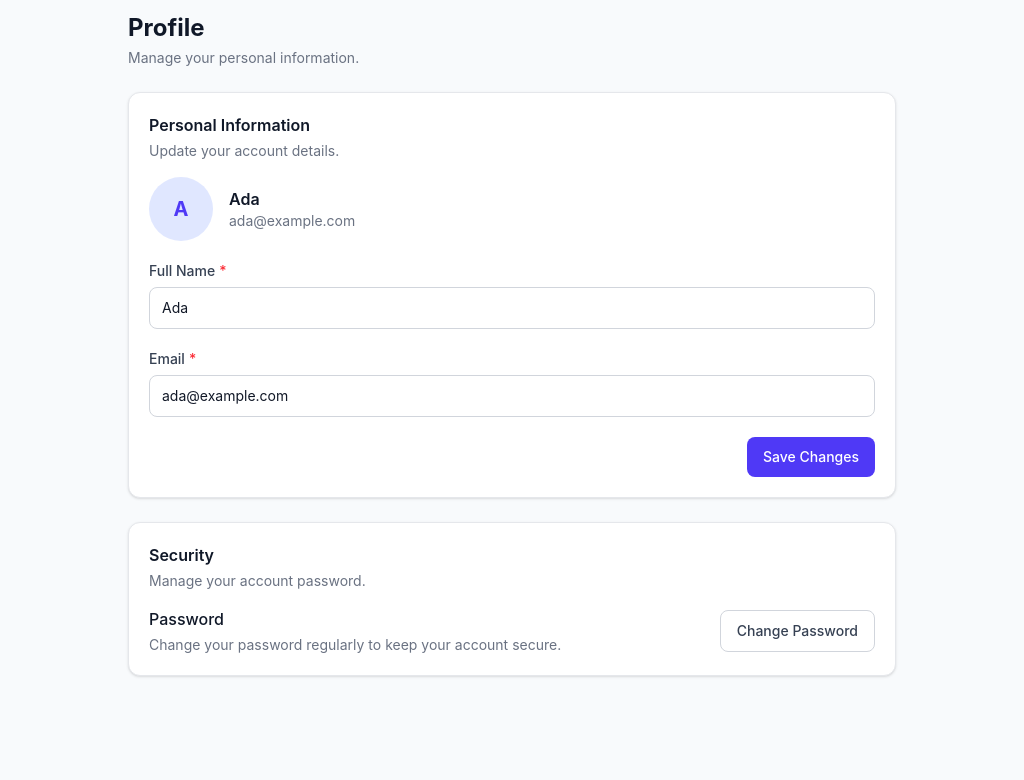
Test: Profile › shows the backend's message when the new email is taken
Click the button "Save Changes" at (811, 457), box left=747, top=437, right=875, bottom=477
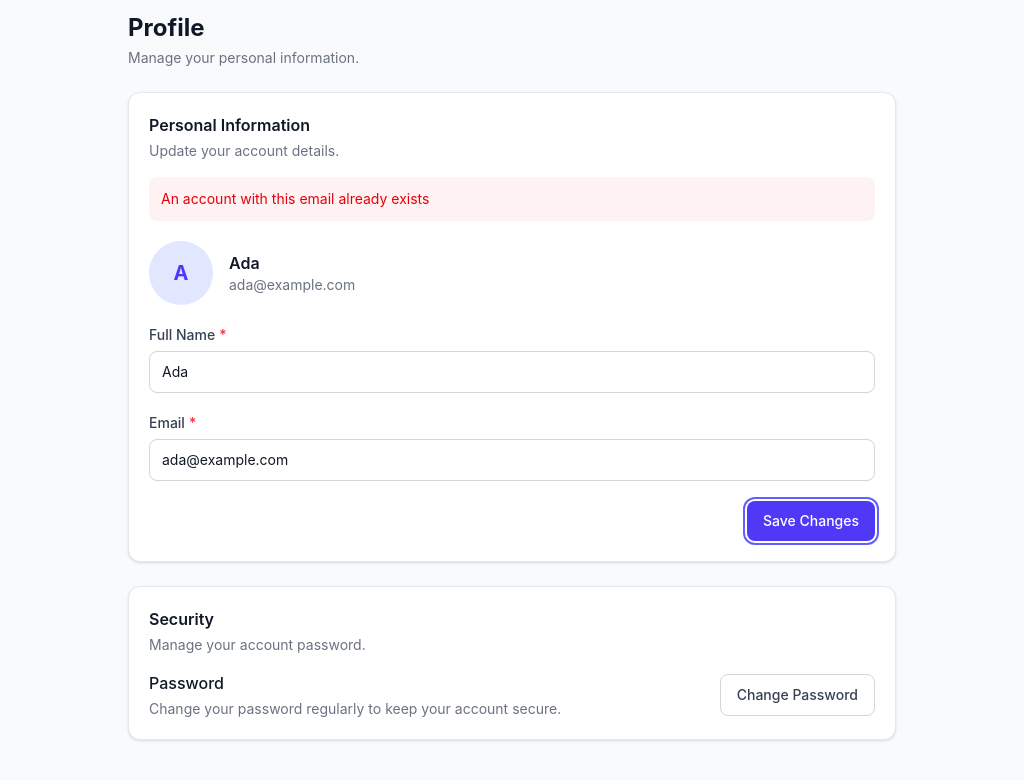
expect the text "An account with this email already exists" is shown: met, box left=149, top=177, right=875, bottom=221
